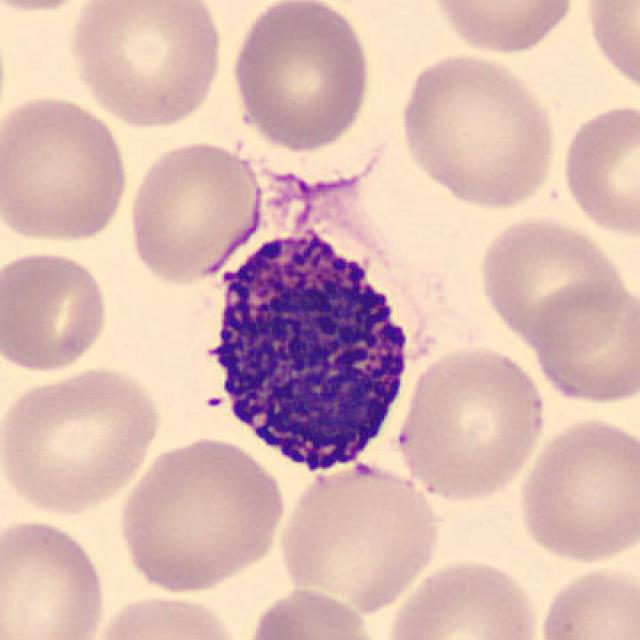Basophil: (183, 213, 427, 485)
RBC: (112, 432, 290, 596), (394, 50, 562, 212), (274, 458, 446, 614), (0, 364, 167, 518), (393, 342, 549, 504), (225, 0, 375, 153), (124, 136, 265, 287), (64, 0, 227, 130), (473, 212, 629, 346), (0, 90, 133, 247), (514, 413, 638, 566), (0, 245, 112, 377), (528, 275, 638, 409), (382, 553, 544, 640), (0, 515, 110, 640), (558, 99, 638, 240), (423, 0, 579, 56), (533, 560, 638, 640), (243, 583, 385, 640), (87, 590, 247, 640), (581, 0, 638, 100), (0, 0, 105, 14)
